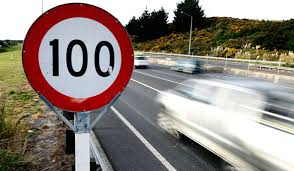Speed_limit_100km: (21, 2, 136, 112)
